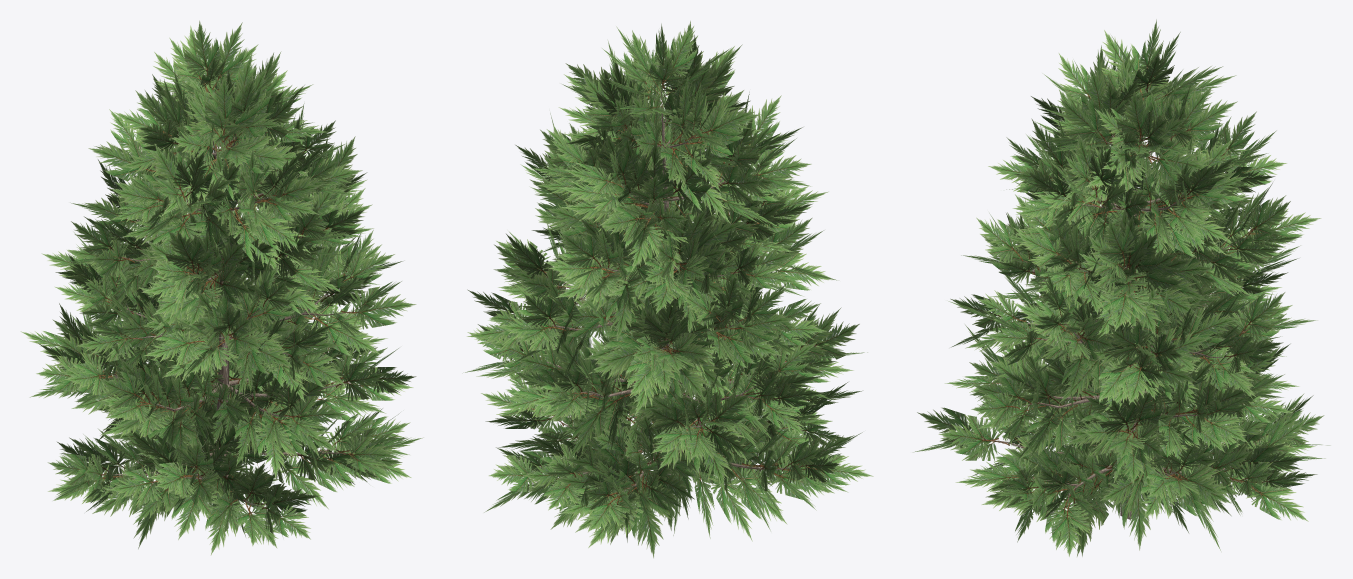
Rendered from Pine.fbx.
3 views of the same model, side by side, from view 1: azimuth 30°, elevation 25°; view 2: azimuth 150°, elevation 25°; view 3: azimuth 270°, elevation 25° (orthographic). The views are drawn at different scales.
Parts seen in each view (by area): view 1: PineLeaves, Pine; view 2: PineLeaves, Pine; view 3: PineLeaves, Pine.
Part boxes in pixels (left/top/right/bottom): PineLeaves: left=20, top=20, right=423, bottom=555; Pine: left=97, top=93, right=351, bottom=507; PineLeaves: left=465, top=21, right=873, bottom=558; Pine: left=522, top=83, right=799, bottom=496; PineLeaves: left=913, top=19, right=1330, bottom=556; Pine: left=982, top=85, right=1255, bottom=519.
Bounding box in the file's own units: 442 × 609 × 455.
Materials: 2 (2 with a texture image).
